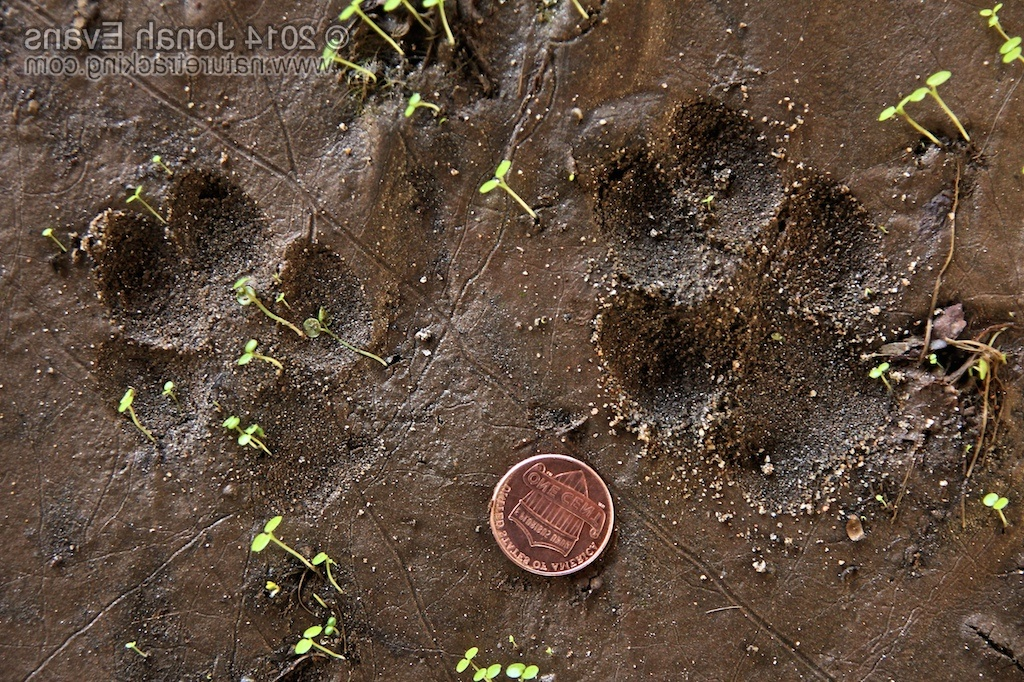coyote: (590, 100, 922, 521), (80, 159, 363, 478)
